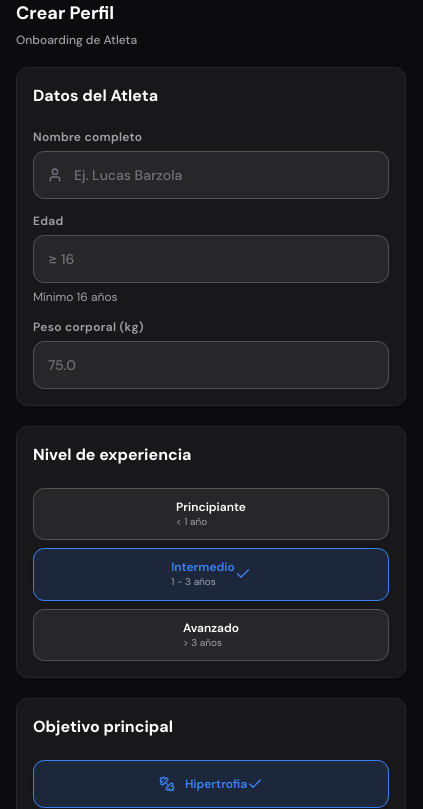
Test: TASK-63: ProfilePage Onboarding Form (RF-01, CA-01.2, CA-01.4, CA-01.5) › should validate and reject ages under 16 years on client-side (RF-01, CA-01.2)
This screenshot has width=423, height=809.
Type "Mateo" into the field labelled "Nombre completo" at (211, 175), box [33,151,389,199]
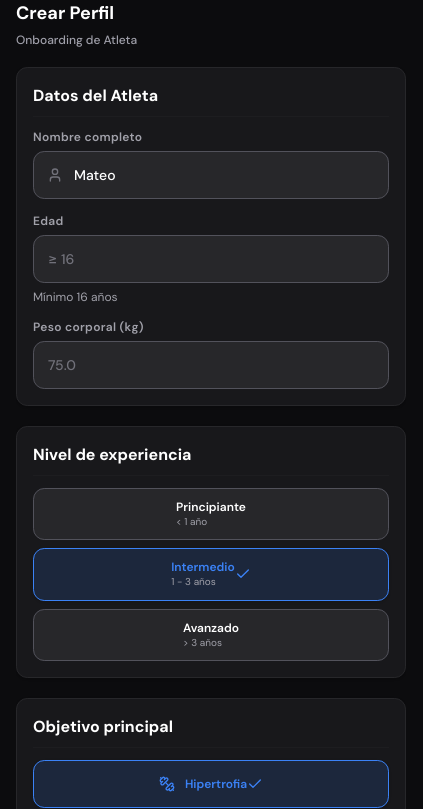
Type "15" into the number field labelled "Edad" at (211, 259), box [33,235,389,283]
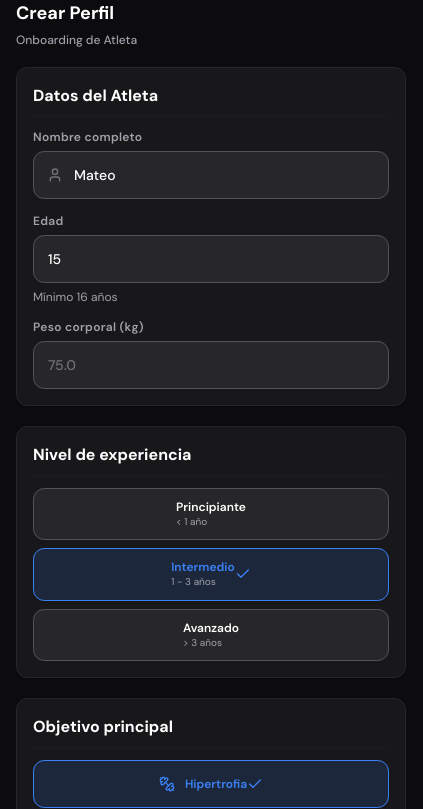
Type "60" into the number field labelled "Peso corporal (kg)" at (211, 365), box [33,341,389,389]
(page scrolled)
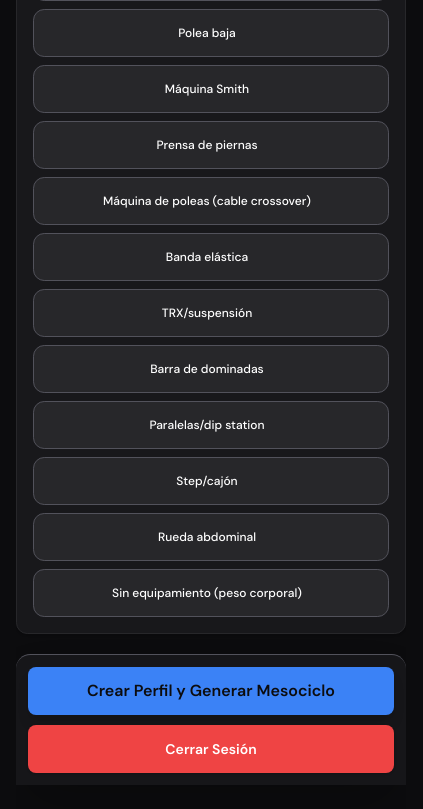
Click the button "Crear Perfil y Generar Mesociclo" at (211, 691), box [28,667,394,715]
(page scrolled)
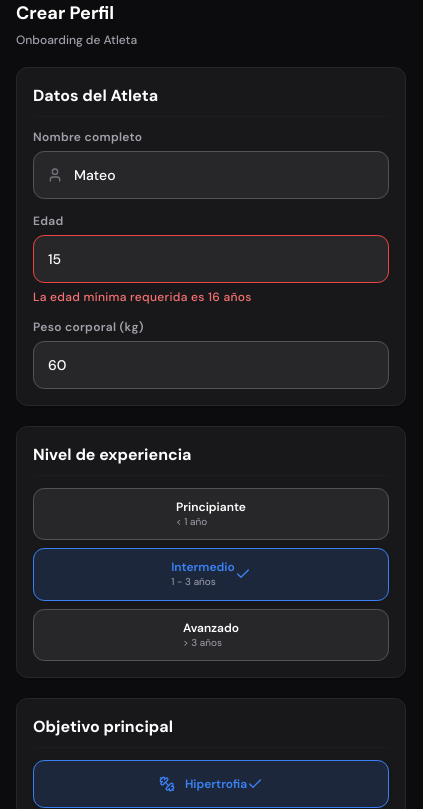
Check: the text "La edad mínima requerida es 16 años" is shown, box [33,289,252,305]
